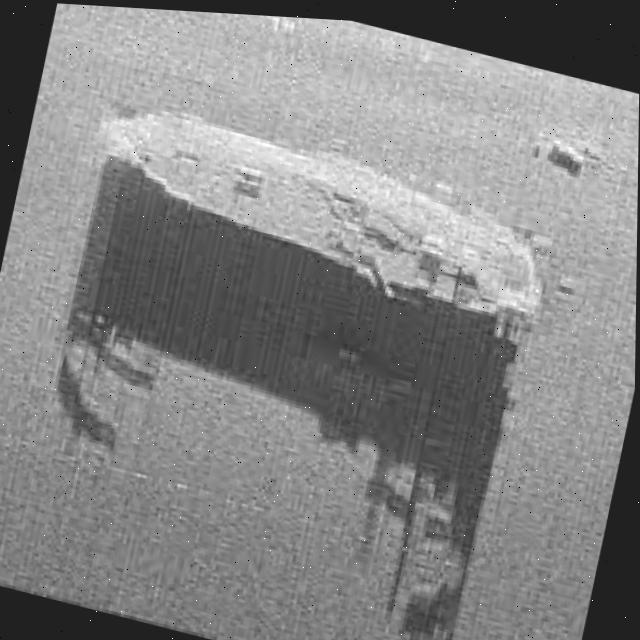shipwreck: (77, 90, 566, 323)
